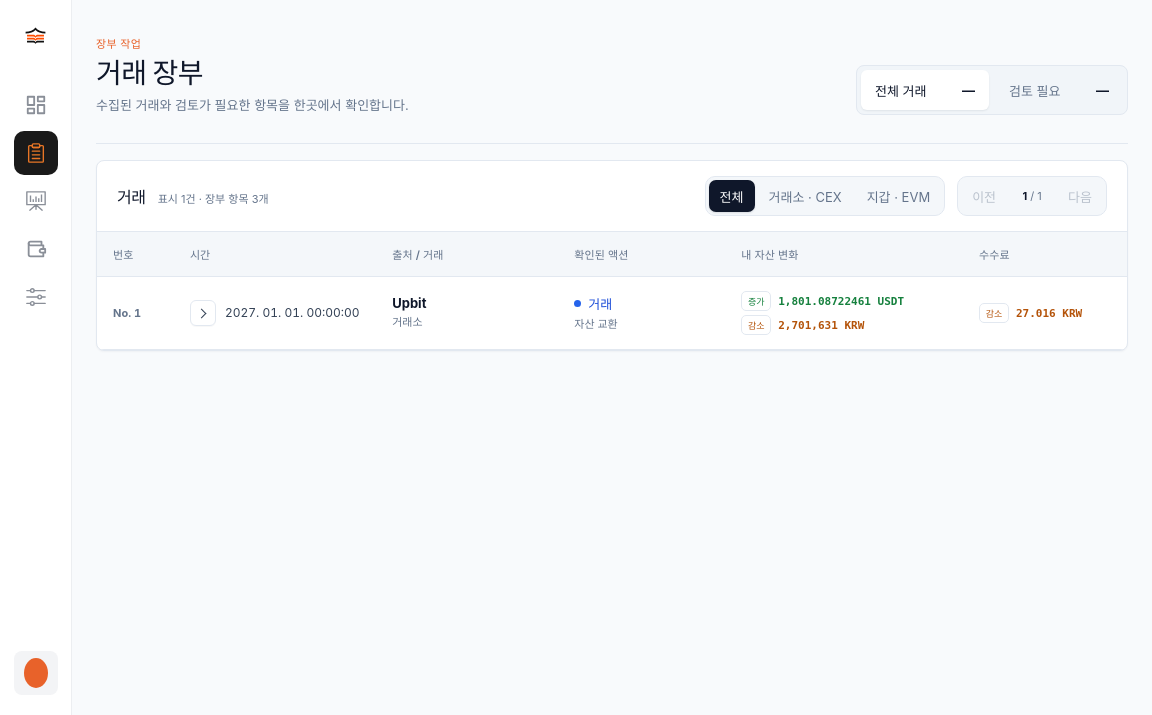
LedgerPage › shows parsed CEX assets, decimal quantities, and posting role explanations
expect the text "표시 1건 · 장부 항목 3개" is shown: met, box [158,190,268,206]
expect the text "1,801.08722461 USDT" is shown once: met, box [778,294,904,308]
Click the button named "거래 거래 상세 보기" at point(203, 313), box [190,300,216,326]
(page scrolled)
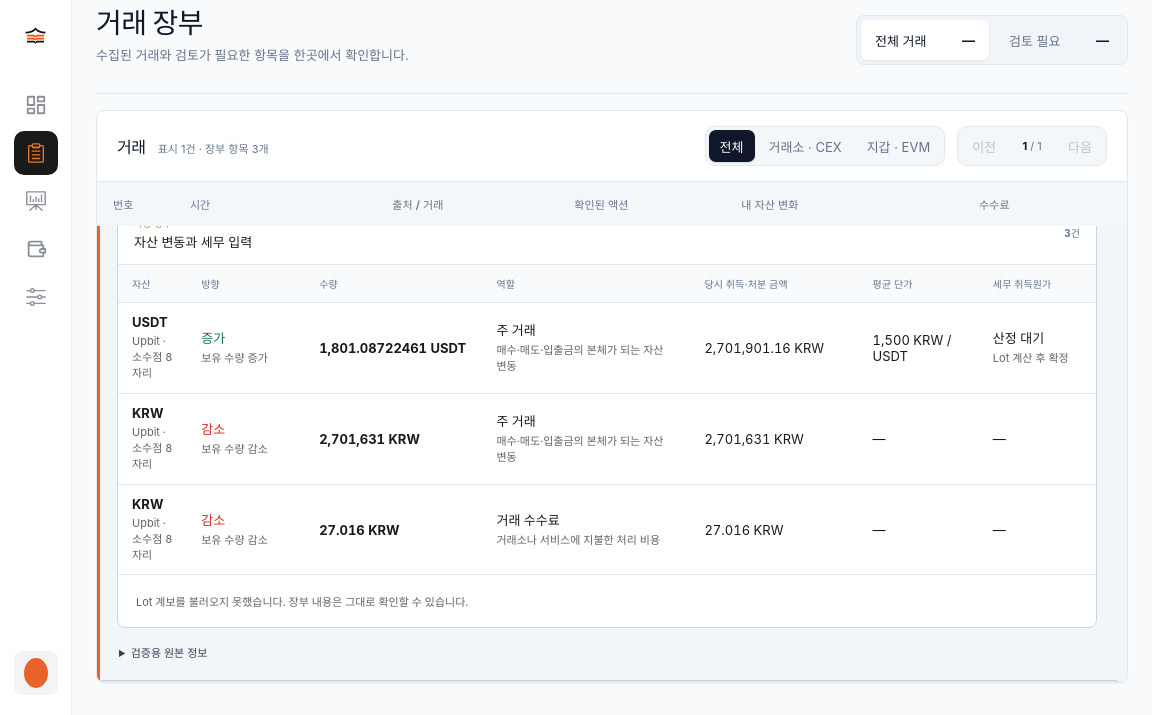
expect the text "1,801.08722461 USDT" is shown 2 times: met
expect the text "27.016 KRW" is shown 3 times: met
expect the text "Upbit · 소수점 8자리" is shown 3 times: met, box [132,334,173,382]; [132,425,173,473]; [132,516,173,563]
